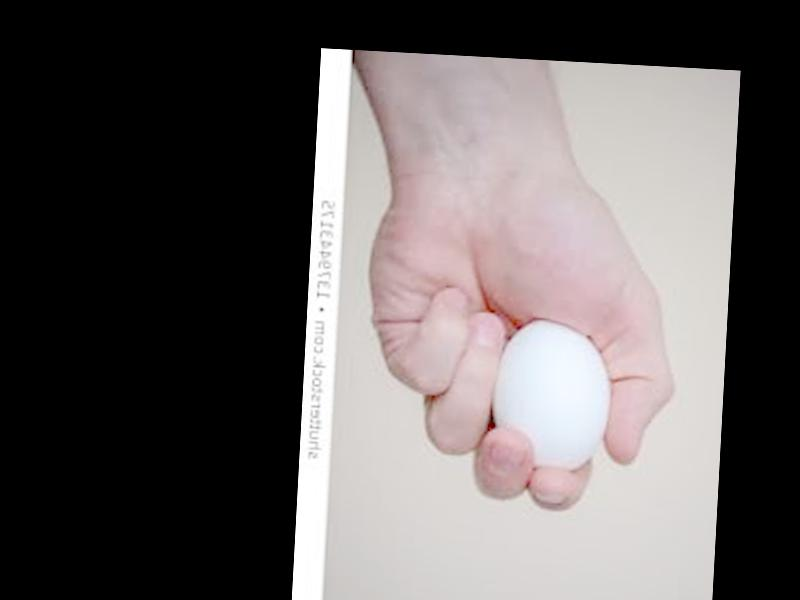Eggs: (491, 315, 613, 471)
